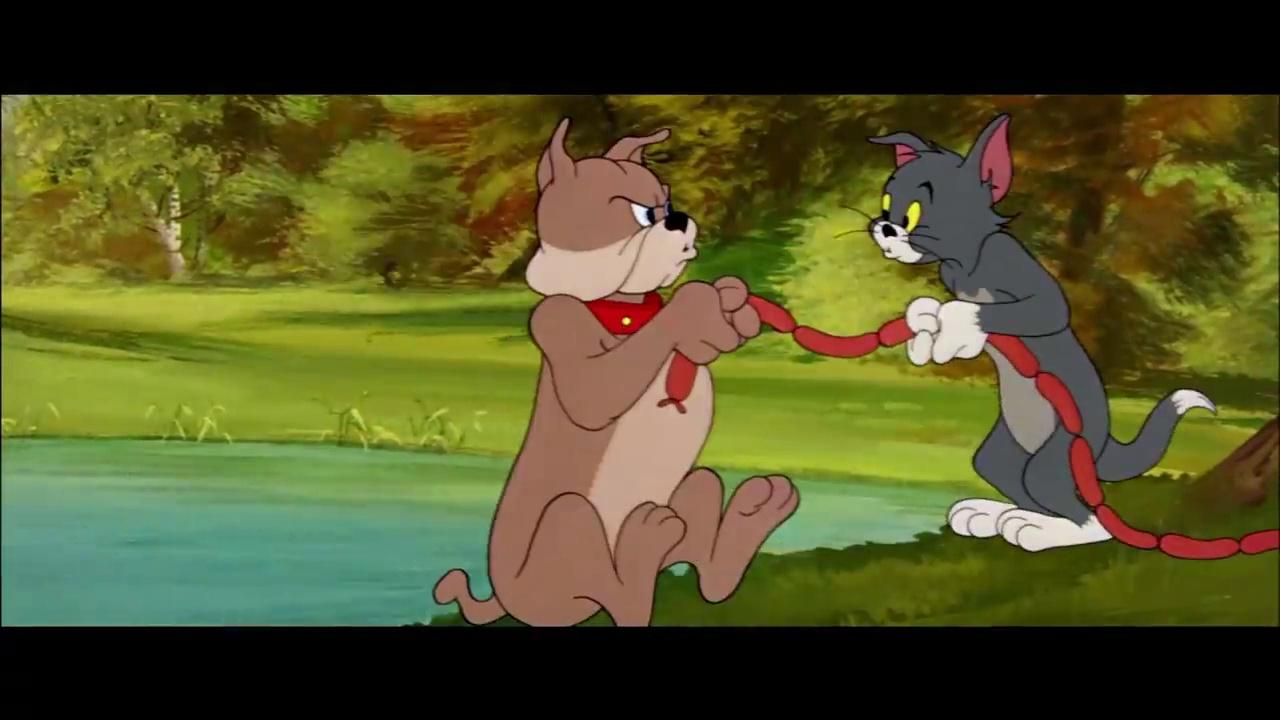Tom: (862, 110, 1220, 553)
